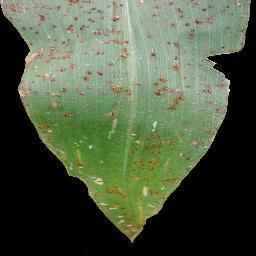Corn_Common_Rust: (2, 1, 256, 255)
